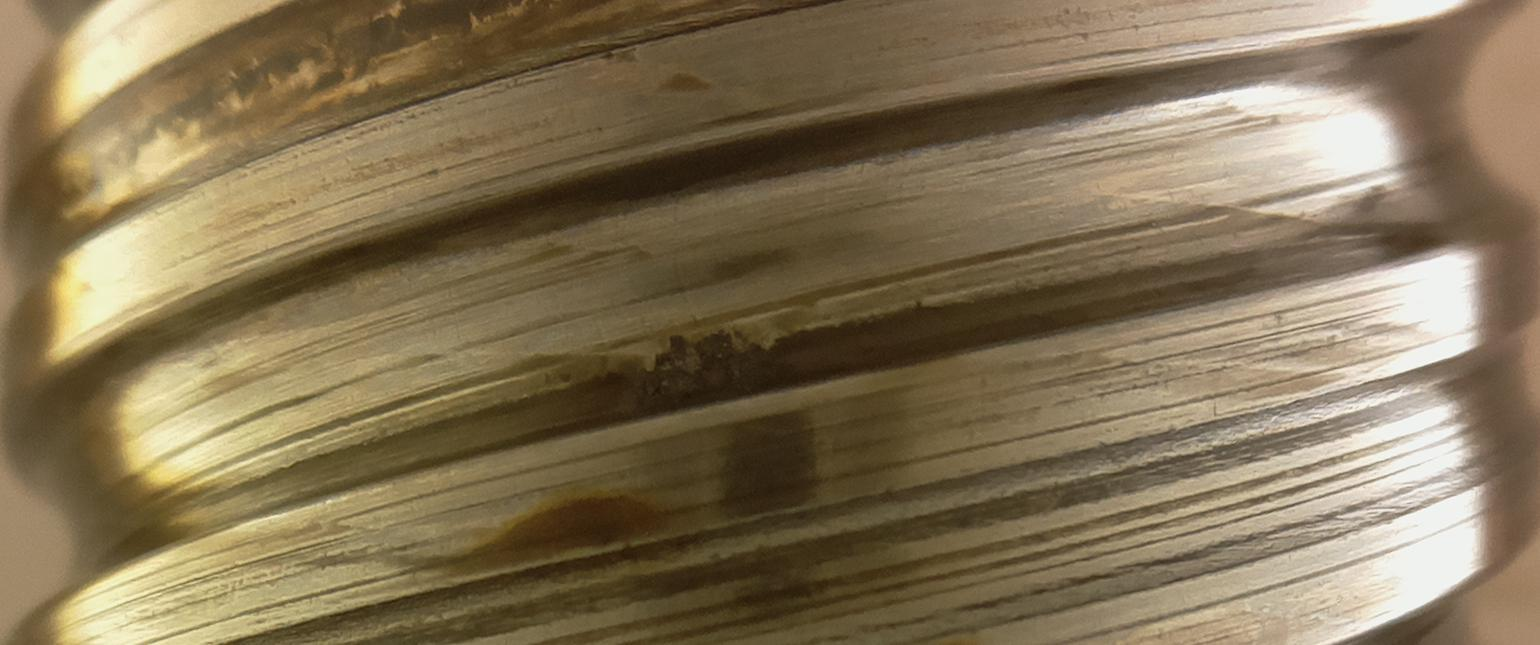pitting: (623, 328, 768, 417)
